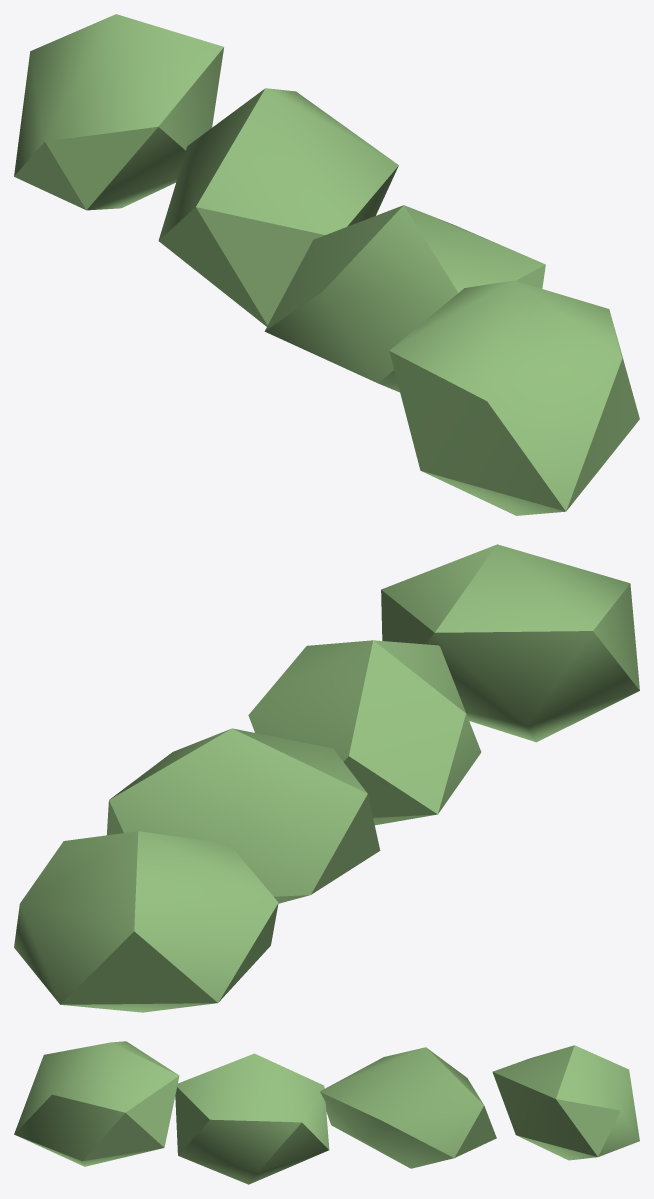
Rendered from Uprawa_Ziemniaki_1.fbx.
3 views of the same model, one above another, from view 1: azimuth 30°, elevation 25°; view 2: azimuth 150°, elevation 25°; view 3: azimuth 270°, elevation 25° (orthographic). The views are drawn at different scales.
Parts seen in each view (by area): view 1: Uprawa_Ziemniaki_1; view 2: Uprawa_Ziemniaki_1; view 3: Uprawa_Ziemniaki_1.
Boxes of the visible parts, left/top/right/bottom form: Uprawa_Ziemniaki_1: left=14, top=14, right=639, bottom=515; Uprawa_Ziemniaki_1: left=14, top=544, right=639, bottom=1012; Uprawa_Ziemniaki_1: left=14, top=1041, right=639, bottom=1184.
Bounding box in the file's own units: 0.5329 × 0.4621 × 1.99.
